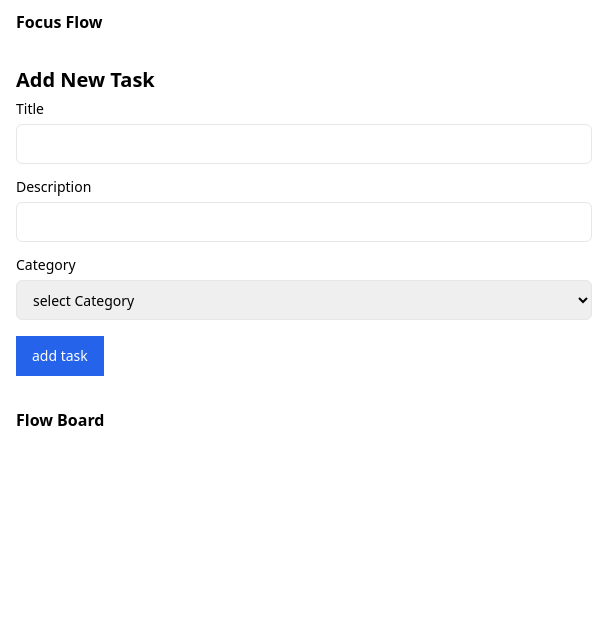
it: AppWithContext components › add new item to the list
Type "title" into the field labelled "Title".
click(304, 144); type("title")  # box left=16, top=124, right=592, bottom=164
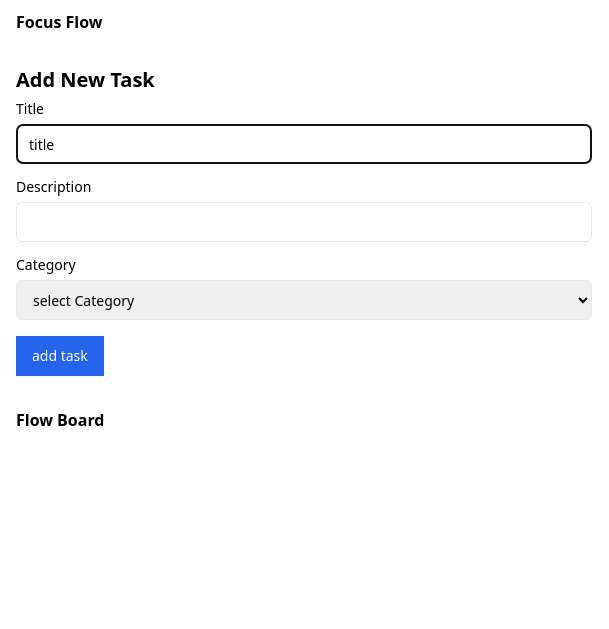
Type "test description" into the field labelled "Description".
click(304, 222); type("test description")  # box left=16, top=202, right=592, bottom=242
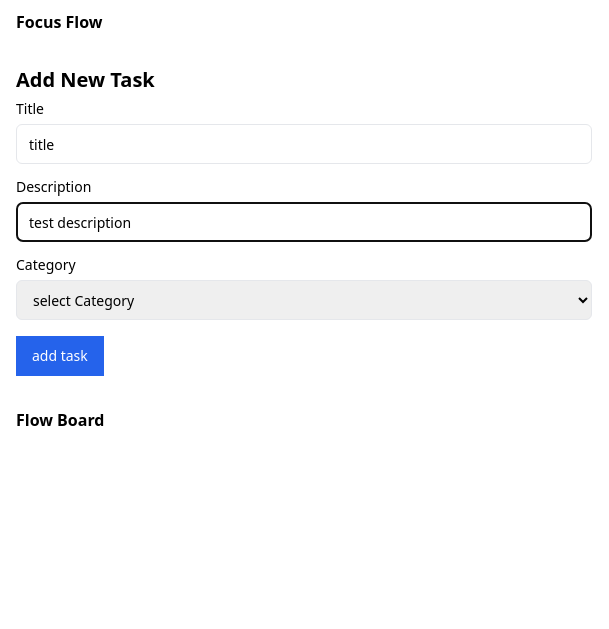
Select "select Category" in the dropdown labelled "Category" at (304,300), box left=16, top=280, right=592, bottom=320
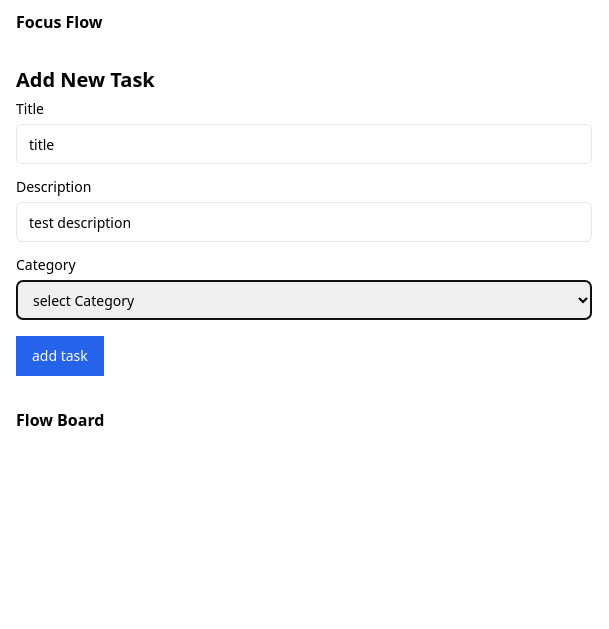
Click the button "add task".
click(60, 356)  # box left=16, top=336, right=104, bottom=376
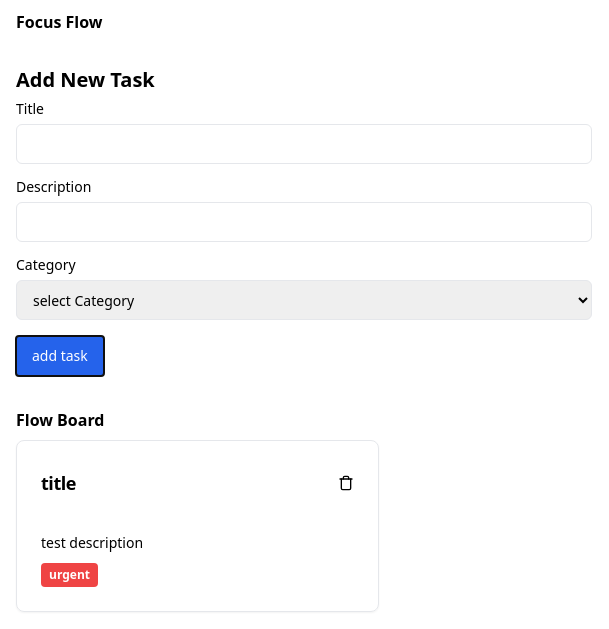
expect the heading "title" is shown: met, box left=41, top=474, right=76, bottom=492
expect the text "test description" is shown: met, box left=41, top=533, right=143, bottom=552
expect the text "urgent" is shown: met, box left=41, top=563, right=98, bottom=587
